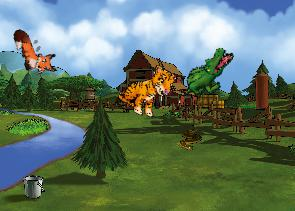crocodile: (180, 39, 235, 108)
fox: (10, 21, 60, 81)
tiger: (114, 55, 179, 123)
